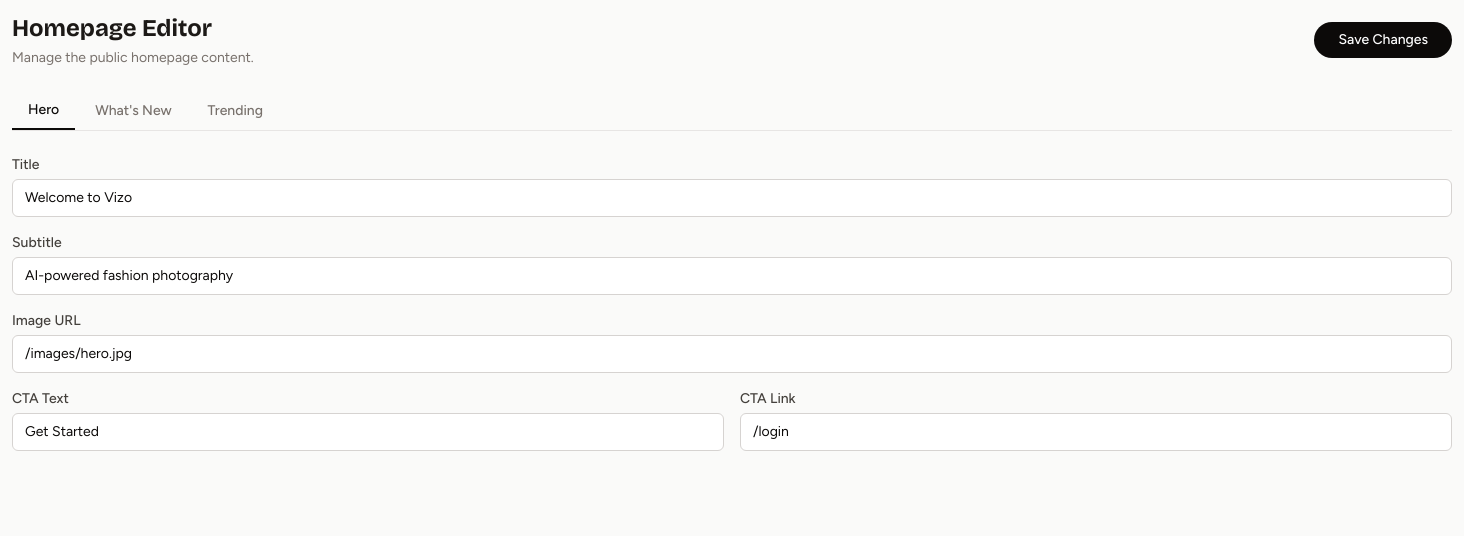
HomepageEditor › shows error on save failure
Expected: the field labelled "Title" is shown, [12,179,1452,217]
Click the button "Save Changes". click: [1383, 40]
box: [1314,22,1452,58]
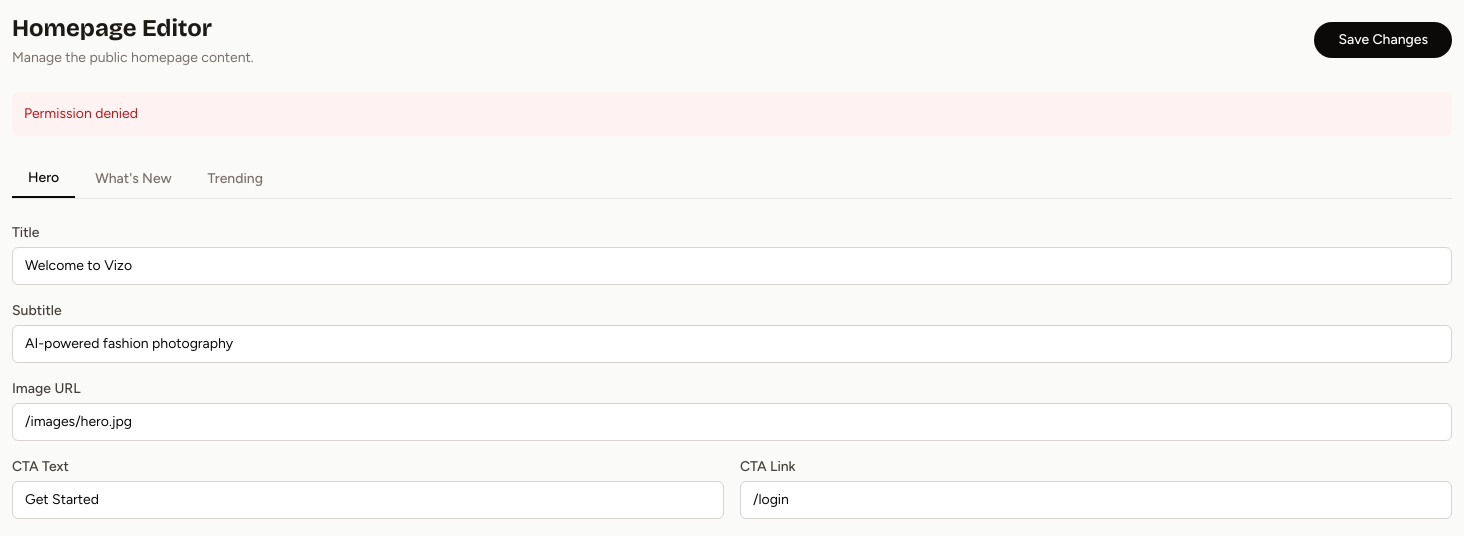
Result: the message reads "Permission denied" at [24,105,138,122]
